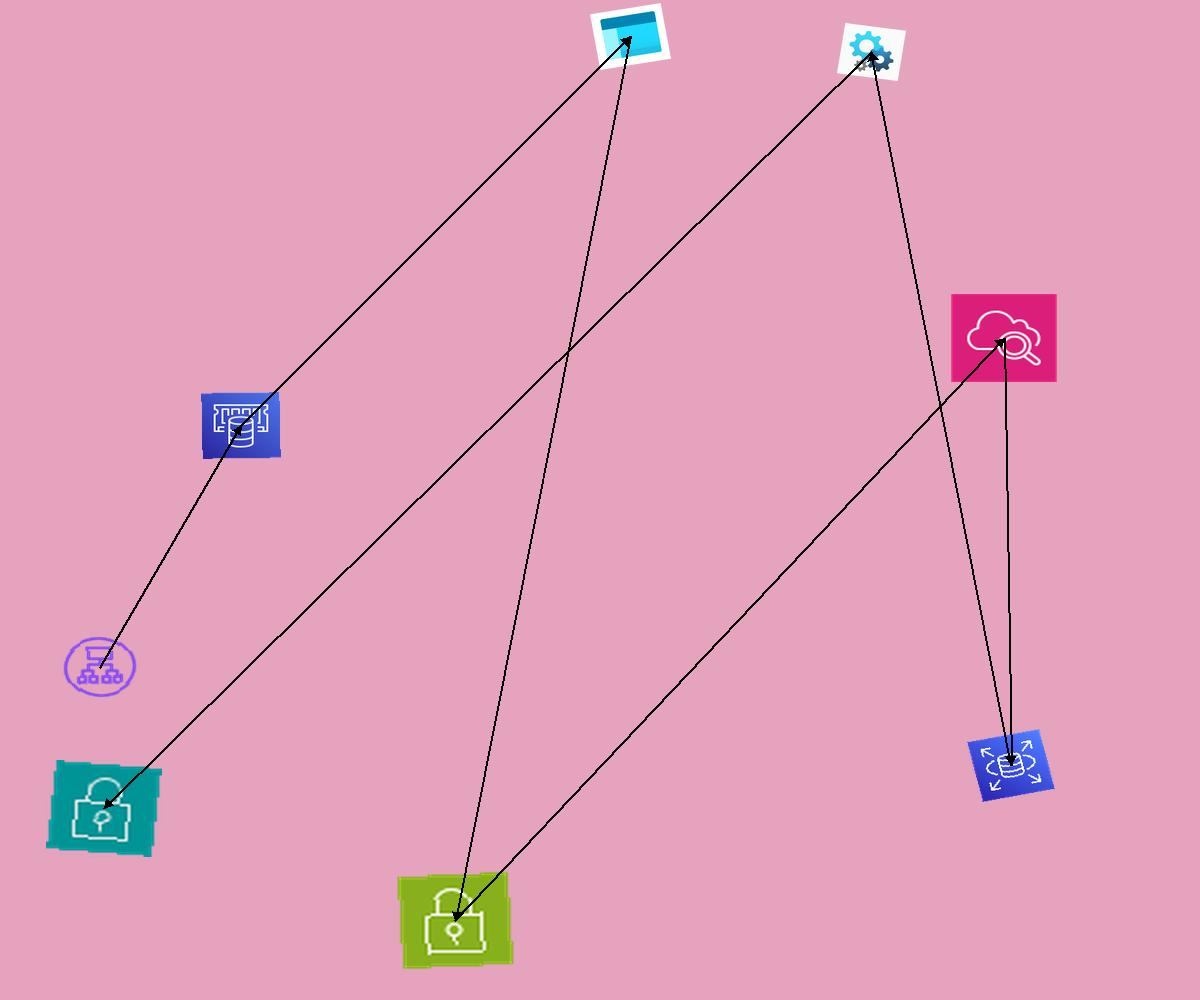AWS-CloudWatch: (950, 293, 1058, 383)
AWS-ElastiCache: (201, 392, 281, 459)
AWS-Private-subnet: (46, 760, 162, 857)
AWS-Public-subnet: (395, 870, 516, 971)
AWS-RDS: (967, 729, 1055, 802)
AWS-Res_Elastic-Load-Balancing_Application-Load-Balancer: (59, 633, 141, 701)
Azure_api: (837, 23, 906, 81)
Azure_management-portal: (590, 3, 671, 70)
